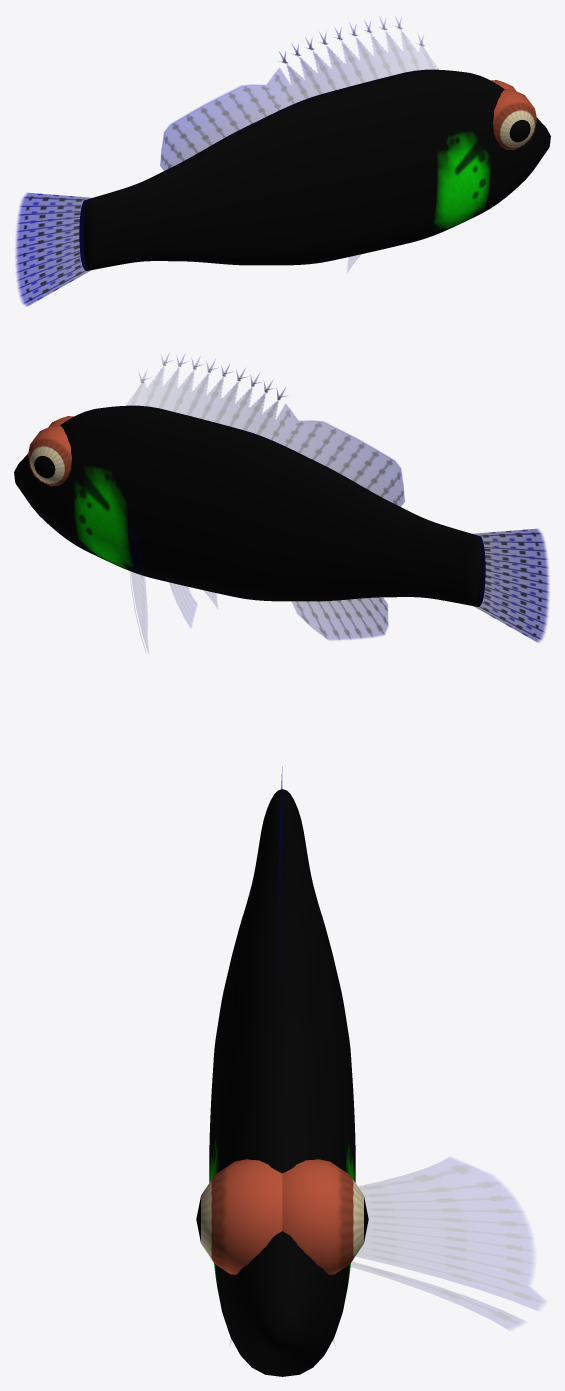
File: hawkfish.glb
3 views of the same model, one above another, from view 1: azimuth 30°, elevation 25°; view 2: azimuth 150°, elevation 25°; view 3: azimuth 270°, elevation 25° (orthographic). The views are drawn at different scales.
Visible parts, largest first — view 1: Body, FinDorsal, FinCaudal, EyeR; view 2: Body, FinDorsal, FinCaudal, FinAnal, EyeL, FinPectoralL, FinPelvicL; view 3: Body, FinPectoralL, EyeL, EyeR.
Boxes of the visible parts, x1,y1,x2,y2 form: Body: (79,69,550,270); FinDorsal: (160,18,434,171); FinCaudal: (15,193,92,306); EyeR: (493,89,536,150); Body: (14,405,485,606); FinDorsal: (130,354,404,507); FinCaudal: (472,529,549,642); FinAnal: (292,597,388,639); EyeL: (28,425,71,486); FinPectoralL: (128,523,147,650); FinPelvicL: (169,582,196,627); Body: (209,789,355,1376); FinPectoralL: (351,1158,542,1328); EyeL: (282,1159,368,1274); EyeR: (196,1159,282,1274).
Bounding box in the file's own units: 1 × 0.4728 × 0.4396.
Materials: 4 (3 with a texture image).
